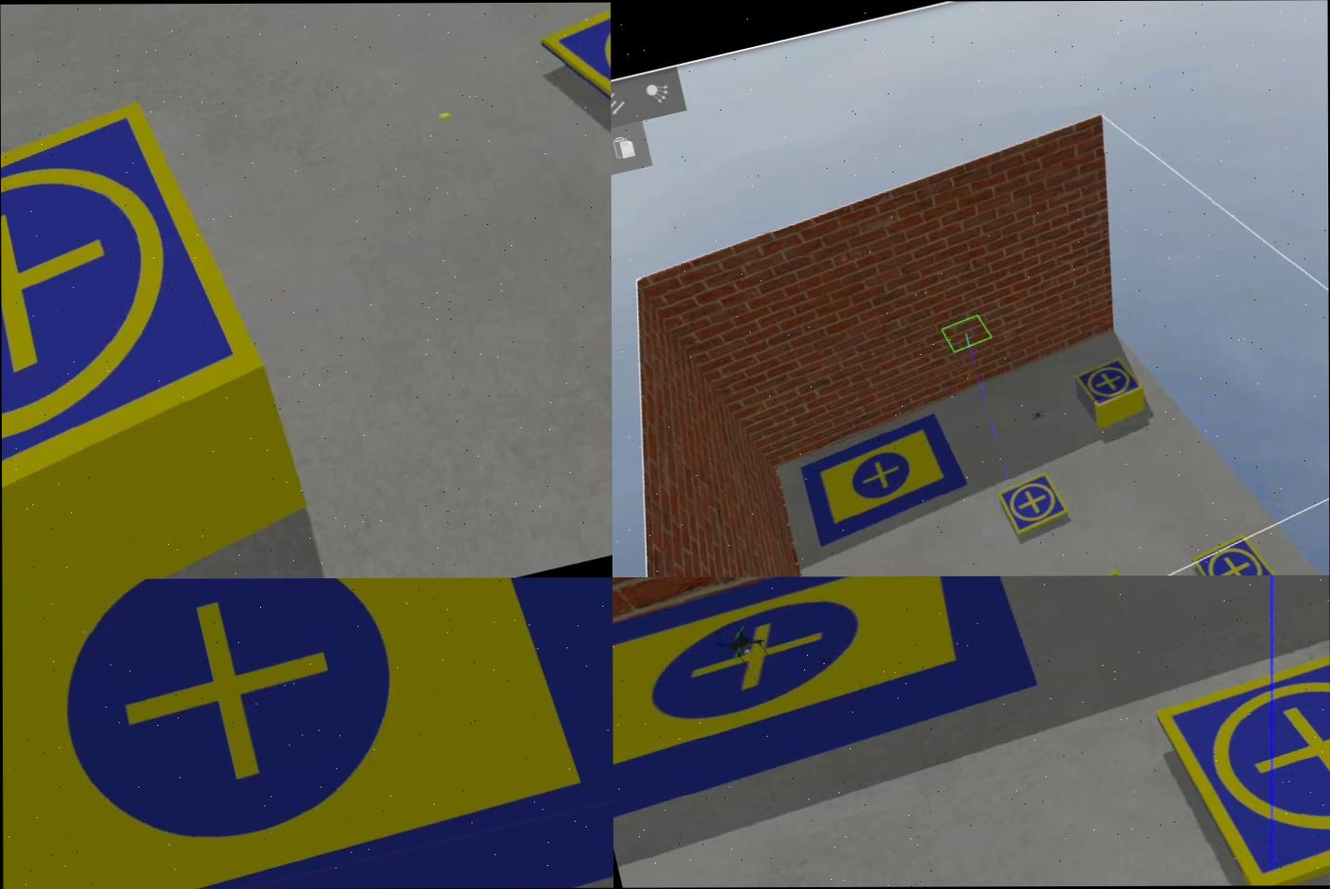large_base: (2, 577, 613, 889), (612, 576, 1045, 811), (798, 410, 975, 547)
small_base: (1, 87, 292, 579), (1153, 621, 1330, 885), (995, 469, 1073, 539), (1191, 528, 1286, 575), (1072, 354, 1146, 412)
